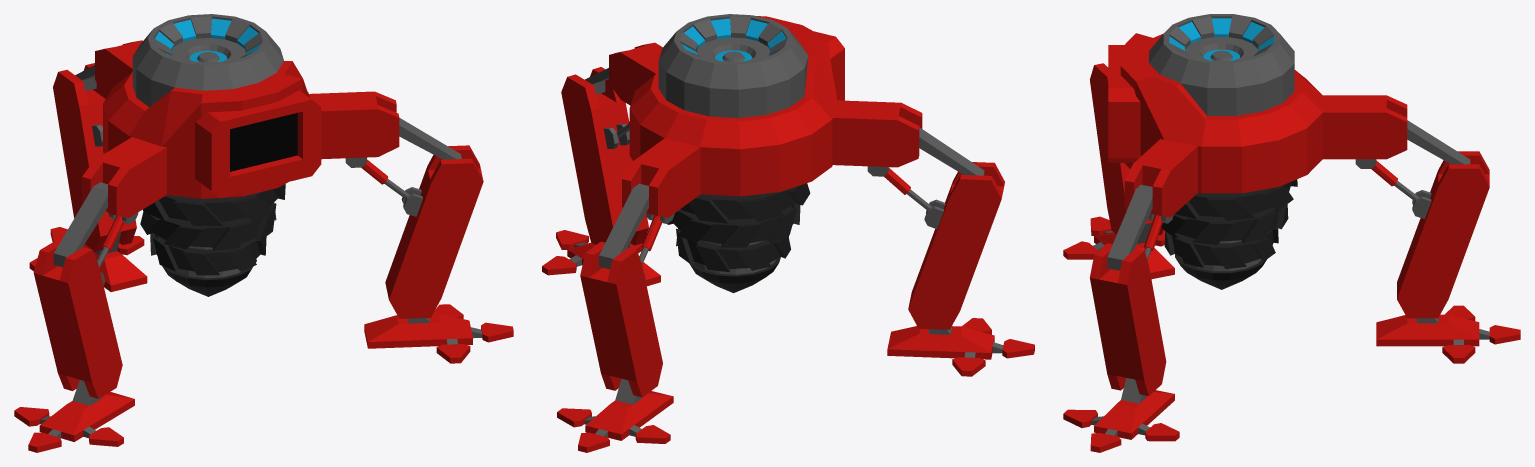
File: Driller.obj
3 views of the same model, side by side, from view 1: azimuth 30°, elevation 25°; view 2: azimuth 150°, elevation 25°; view 3: azimuth 270°, elevation 25° (orthographic). The views are drawn at different scales.
Parts seen in each view (by area): view 1: toes.002_Cube.005; view 2: toes.002_Cube.005; view 3: toes.002_Cube.005.
Boxes of the visible parts, x1=… form: toes.002_Cube.005: x1=14, y1=14, x2=513, y2=452; toes.002_Cube.005: x1=542, y1=14, x2=1034, y2=452; toes.002_Cube.005: x1=1063, y1=14, x2=1520, y2=452.
Size of the model in its own units: 5.3 by 3.2 by 4.44.
